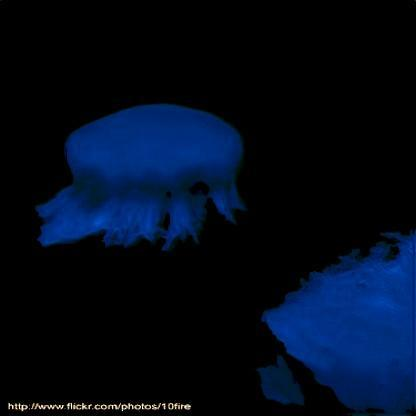GoldThorn: (35, 104, 241, 244), (270, 229, 410, 407)
